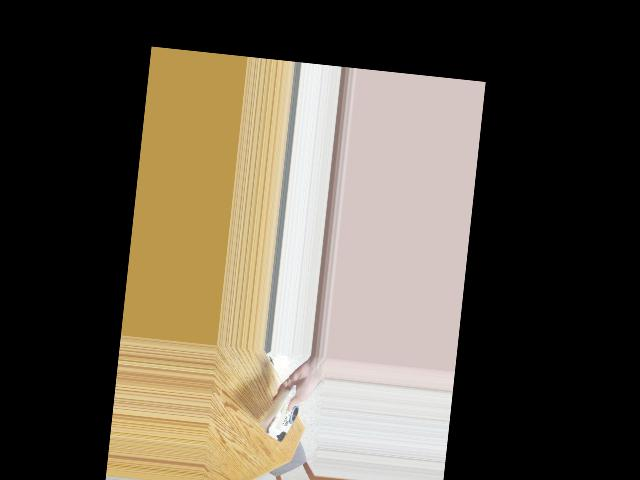cheese: (260, 390, 309, 441)
